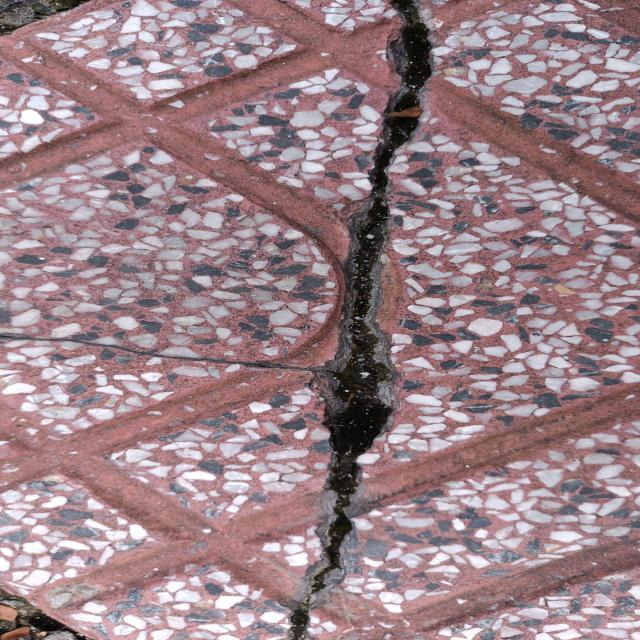vertical cracks: (289, 0, 433, 640)
